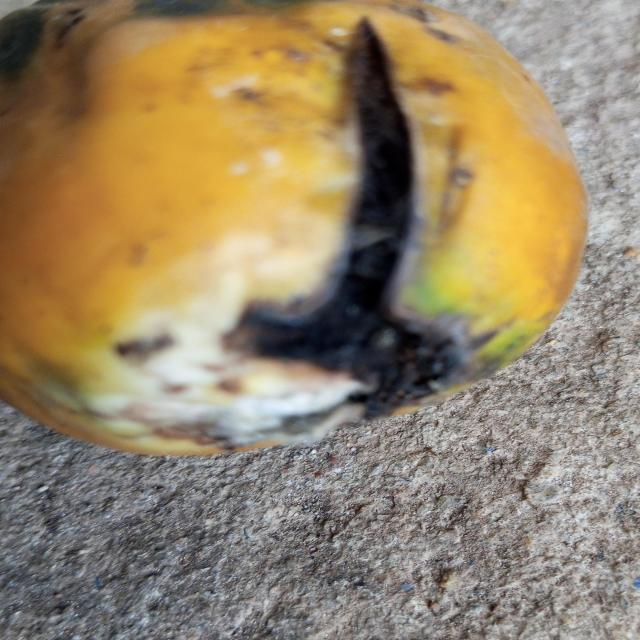damaged: (0, 0, 589, 461)
